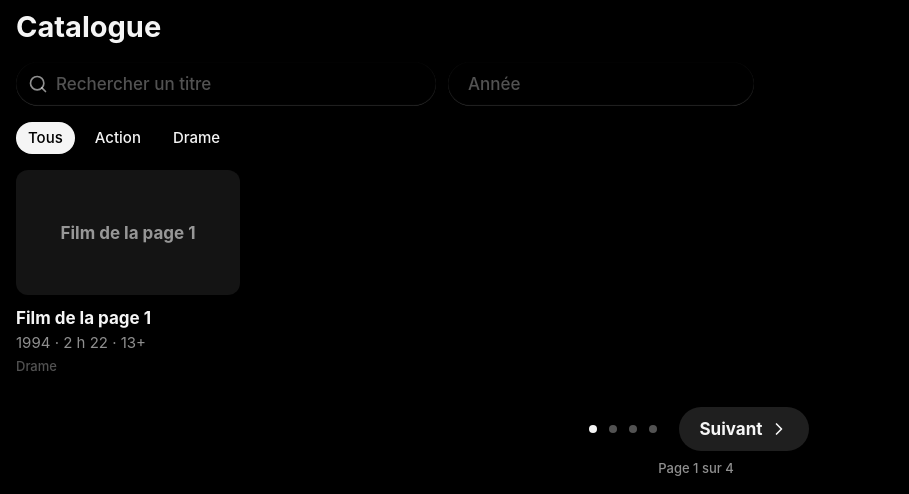
Test case: page du catalogue (spec 08) › choisit une page par son point de pagination
expect the text "Page 1 sur 4" is shown: met, box x1=658 y1=459 x2=734 y2=477
Click the button named "Page 3": (634, 429) x1=624 y1=415 x2=644 y2=443
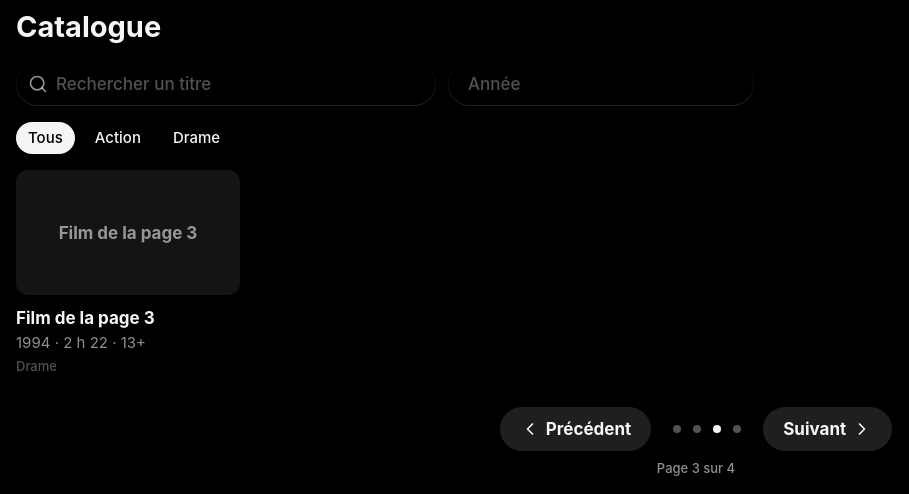
expect the heading "Film de la page 3" is shown: met, box x1=16 y1=308 x2=155 y2=328
expect the text "Page 3 sur 4" is shown: met, box x1=657 y1=459 x2=735 y2=477
